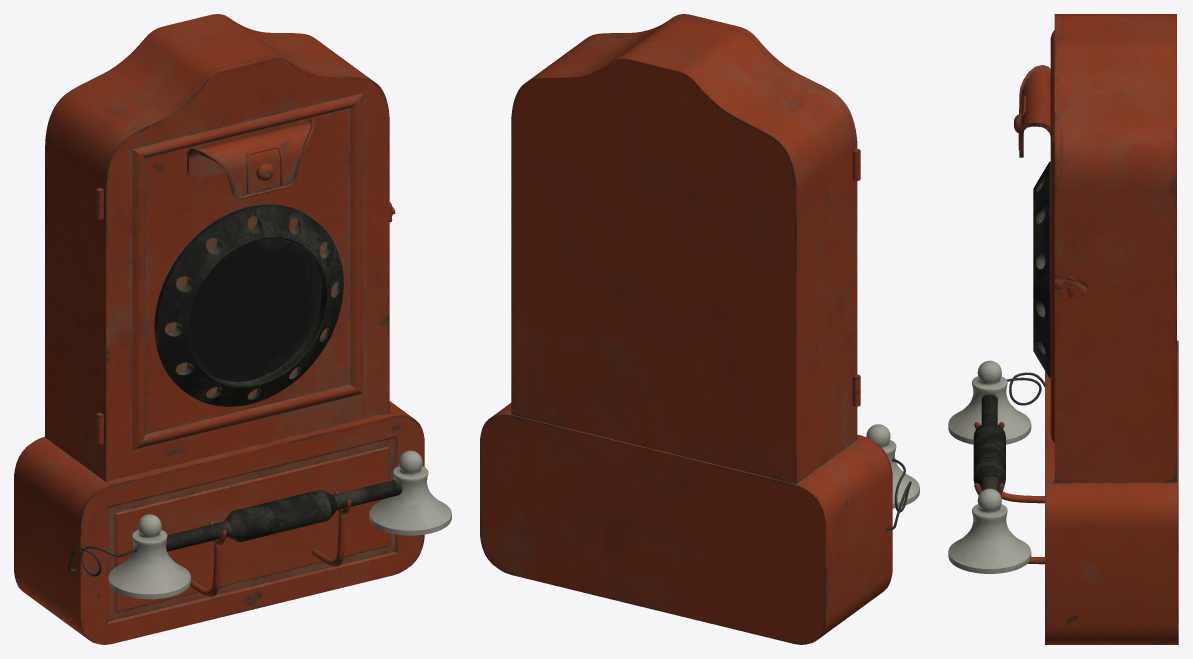
Rendered from vintage_telephone_wall_clock.glb.
The picture shows the model from 3 angles, left to right: view 1: azimuth 30°, elevation 25°; view 2: azimuth 150°, elevation 25°; view 3: azimuth 270°, elevation 25°; orthographic projection.
Parts seen in each view (by area): view 1: vintage_telephone_wall_clock; view 2: vintage_telephone_wall_clock; view 3: vintage_telephone_wall_clock.
Part boxes in pixels (bbox=[...]): vintage_telephone_wall_clock: bbox=[14, 14, 451, 644]; vintage_telephone_wall_clock: bbox=[480, 14, 919, 644]; vintage_telephone_wall_clock: bbox=[948, 14, 1178, 644].
Bounding box in the file's own units: 0.3428 × 0.5012 × 0.1926.
2 materials, 2 textured.
